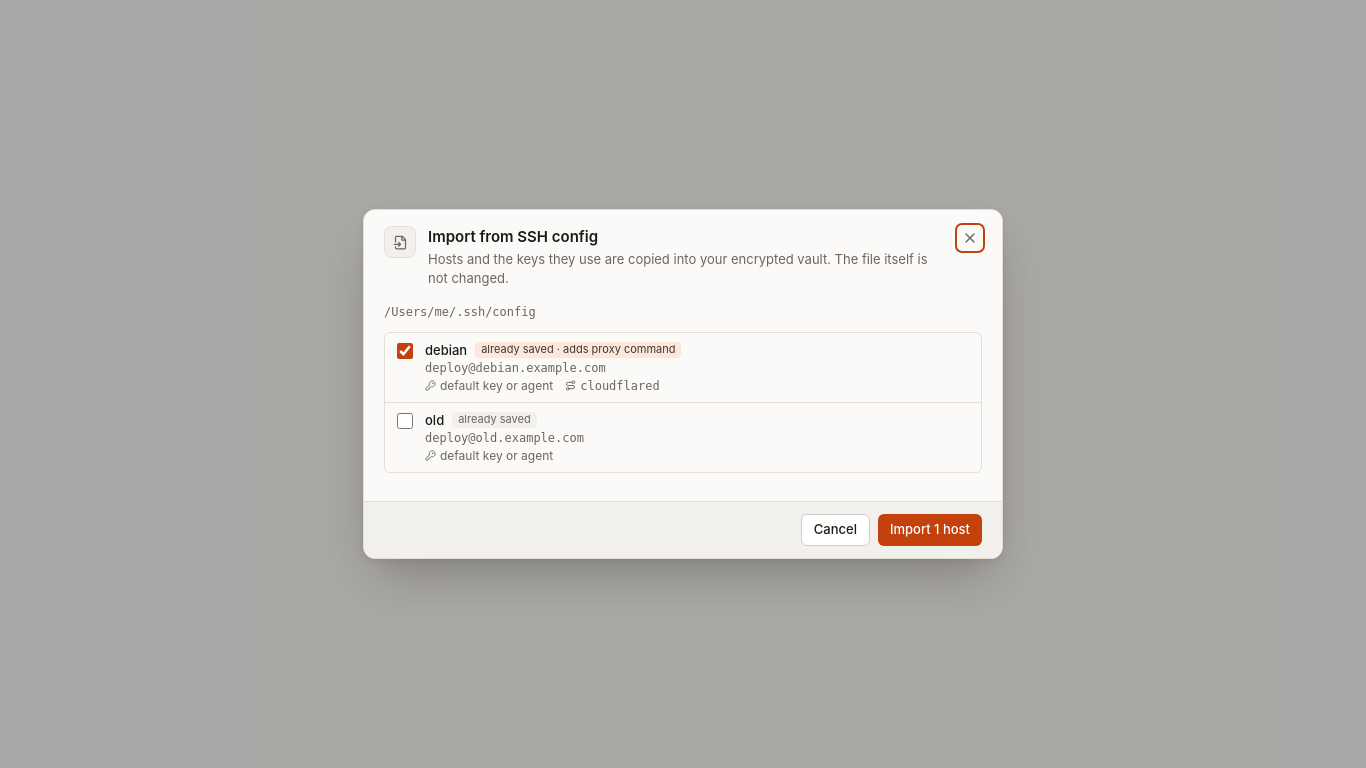
ImportSshConfigDialog › offers to complete a saved host the config has more settings for, and reports it as updated
Expected: the checkbox labelled "debian" is checked, [397,343,413,359]
Expected: the checkbox labelled "old" is not checked, [397,413,413,429]
Click the button "Import 1 host" at (930, 530), box [878,514,982,546]
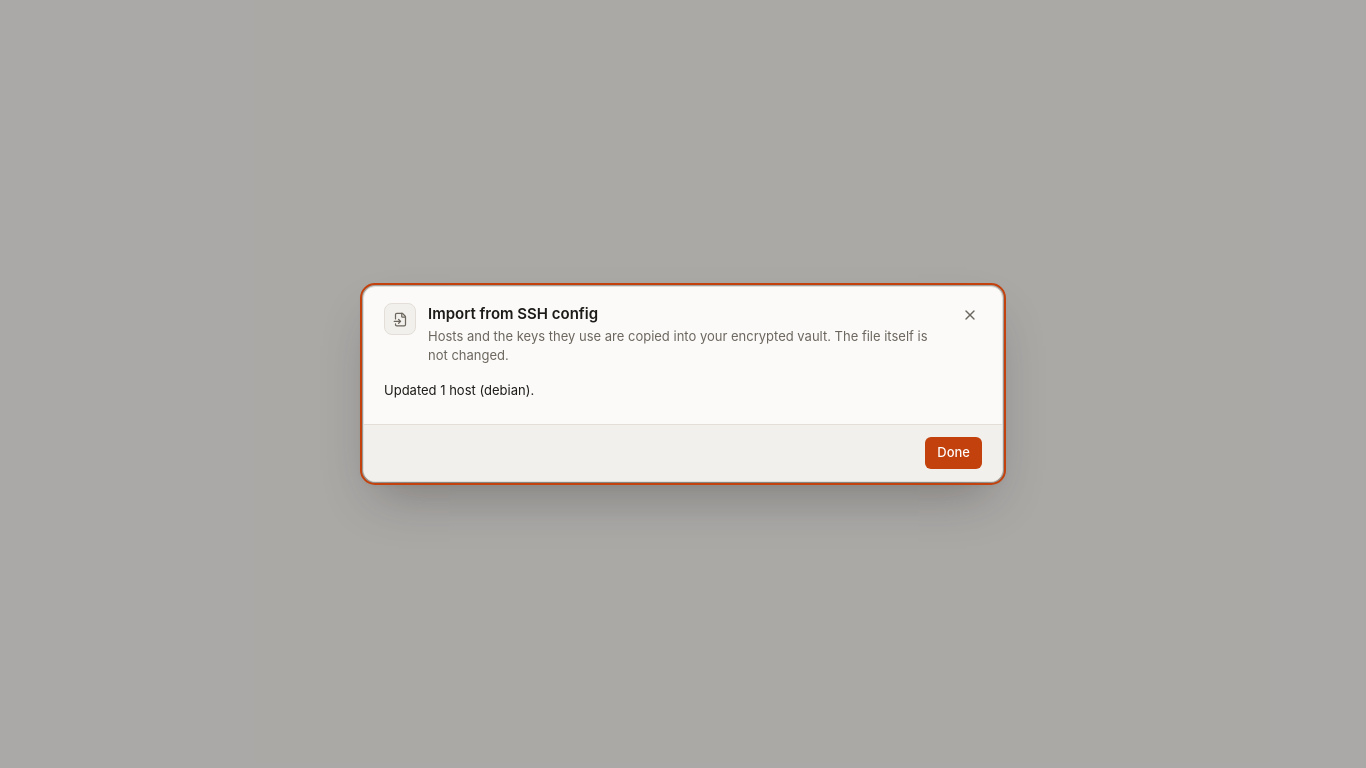
Now the message reads "Updated 1 host (debian).", box [384,382,534,398]
